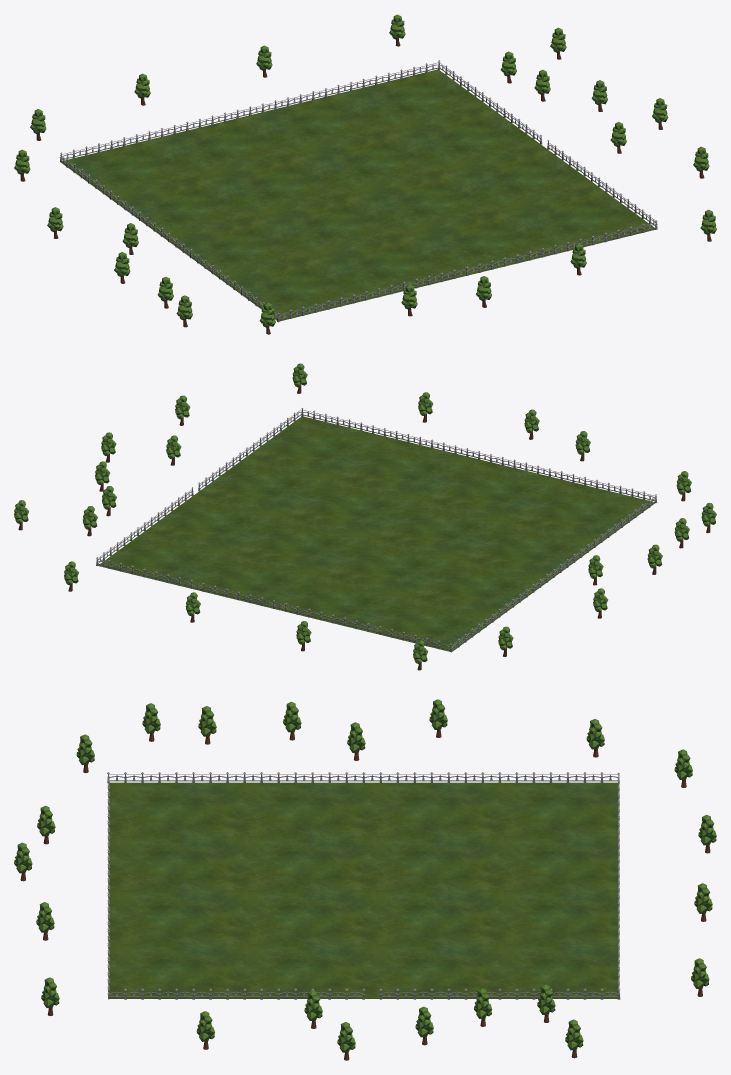
Rendered from FloorBaseGrass_01-old.glb.
The picture shows the model from 3 angles, top to bottom: view 1: azimuth 30°, elevation 25°; view 2: azimuth 150°, elevation 25°; view 3: azimuth 270°, elevation 25°; orthographic projection. The views are drawn at different scales.
Parts seen in each view (by area): view 1: Grass.002, Grass.003, Grass, Grass.001; view 2: Grass, Grass.001, Grass.002, Grass.003; view 3: Grass.001, Grass.003, Grass, Grass.002.
Boxes of the visible parts, box(x1,y1,x2,y2) form: Grass.002: box(250, 69, 546, 195); Grass.003: box(60, 115, 357, 240); Grass: box(358, 149, 655, 275); Grass.001: box(170, 195, 465, 321); Grass: box(200, 416, 477, 533); Grass.001: box(377, 459, 654, 576); Grass.002: box(98, 491, 376, 608); Grass.003: box(275, 534, 552, 652); Grass.001: box(109, 782, 363, 890); Grass.003: box(364, 782, 618, 890); Grass: box(109, 890, 363, 998); Grass.002: box(364, 890, 618, 998).
Size of what is drawn, in the model's own units: 49.02 by 2.56 by 44.03.
Materials: 3 (3 with a texture image).
